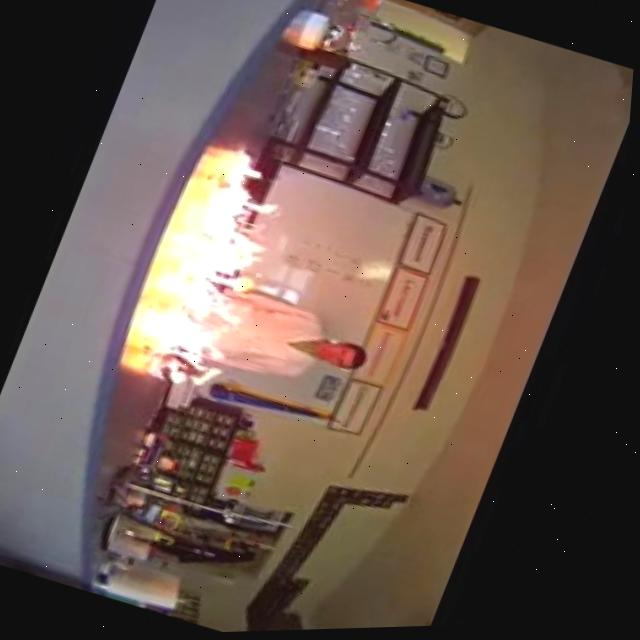Fire: (136, 141, 317, 411)
